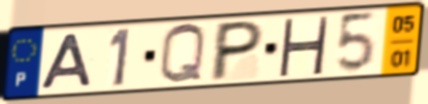1: (106, 26, 132, 90)
5: (333, 9, 381, 77)
A: (38, 31, 95, 92)
H: (276, 16, 332, 77)
P: (206, 18, 267, 84)
Q: (157, 21, 209, 87)
